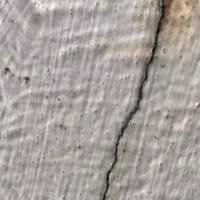crack: (97, 0, 199, 199)
